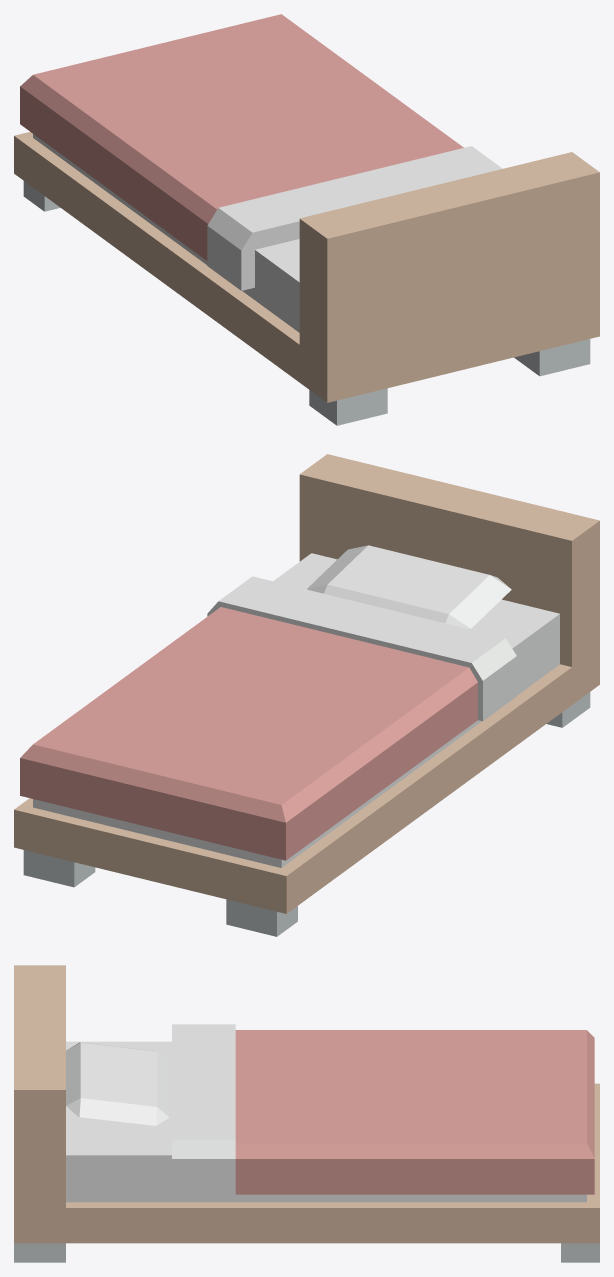
The model's file is bed_single.glb.
3 renders of one model, top to bottom at view 1: azimuth 30°, elevation 25°; view 2: azimuth 150°, elevation 25°; view 3: azimuth 270°, elevation 25°, orthographic. The views are drawn at different scales.
Visible parts, largest first — view 1: bedSingle(Clone), cover; view 2: cover, bedSingle(Clone), pillow; view 3: cover, bedSingle(Clone), pillow.
Part boxes in pixels (bbox=[...]): bedSingle(Clone): bbox=[14, 132, 599, 425]; cover: bbox=[20, 14, 502, 290]; cover: bbox=[20, 576, 516, 860]; bedSingle(Clone): bbox=[14, 454, 599, 936]; pillow: bbox=[307, 545, 511, 629]; cover: bbox=[172, 1024, 594, 1196]; bedSingle(Clone): bbox=[14, 965, 599, 1262]; pillow: bbox=[66, 1042, 169, 1125].
Bounding box in the file's own units: 1.2 × 0.7875 × 2.36.
